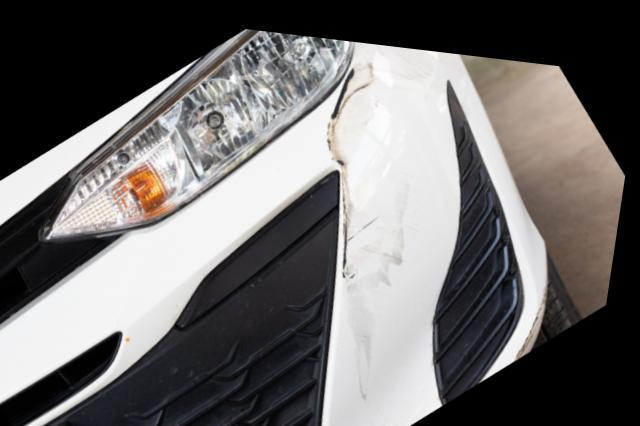scratch: (323, 39, 411, 384)
